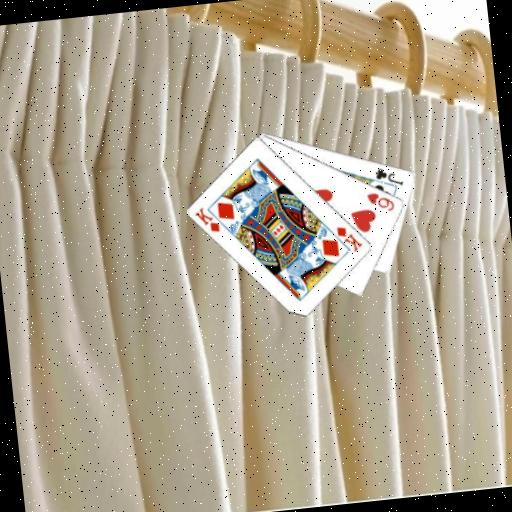6H: (364, 187, 397, 215)
JC: (372, 162, 406, 189)
KD: (333, 221, 365, 255), (192, 203, 223, 236)
